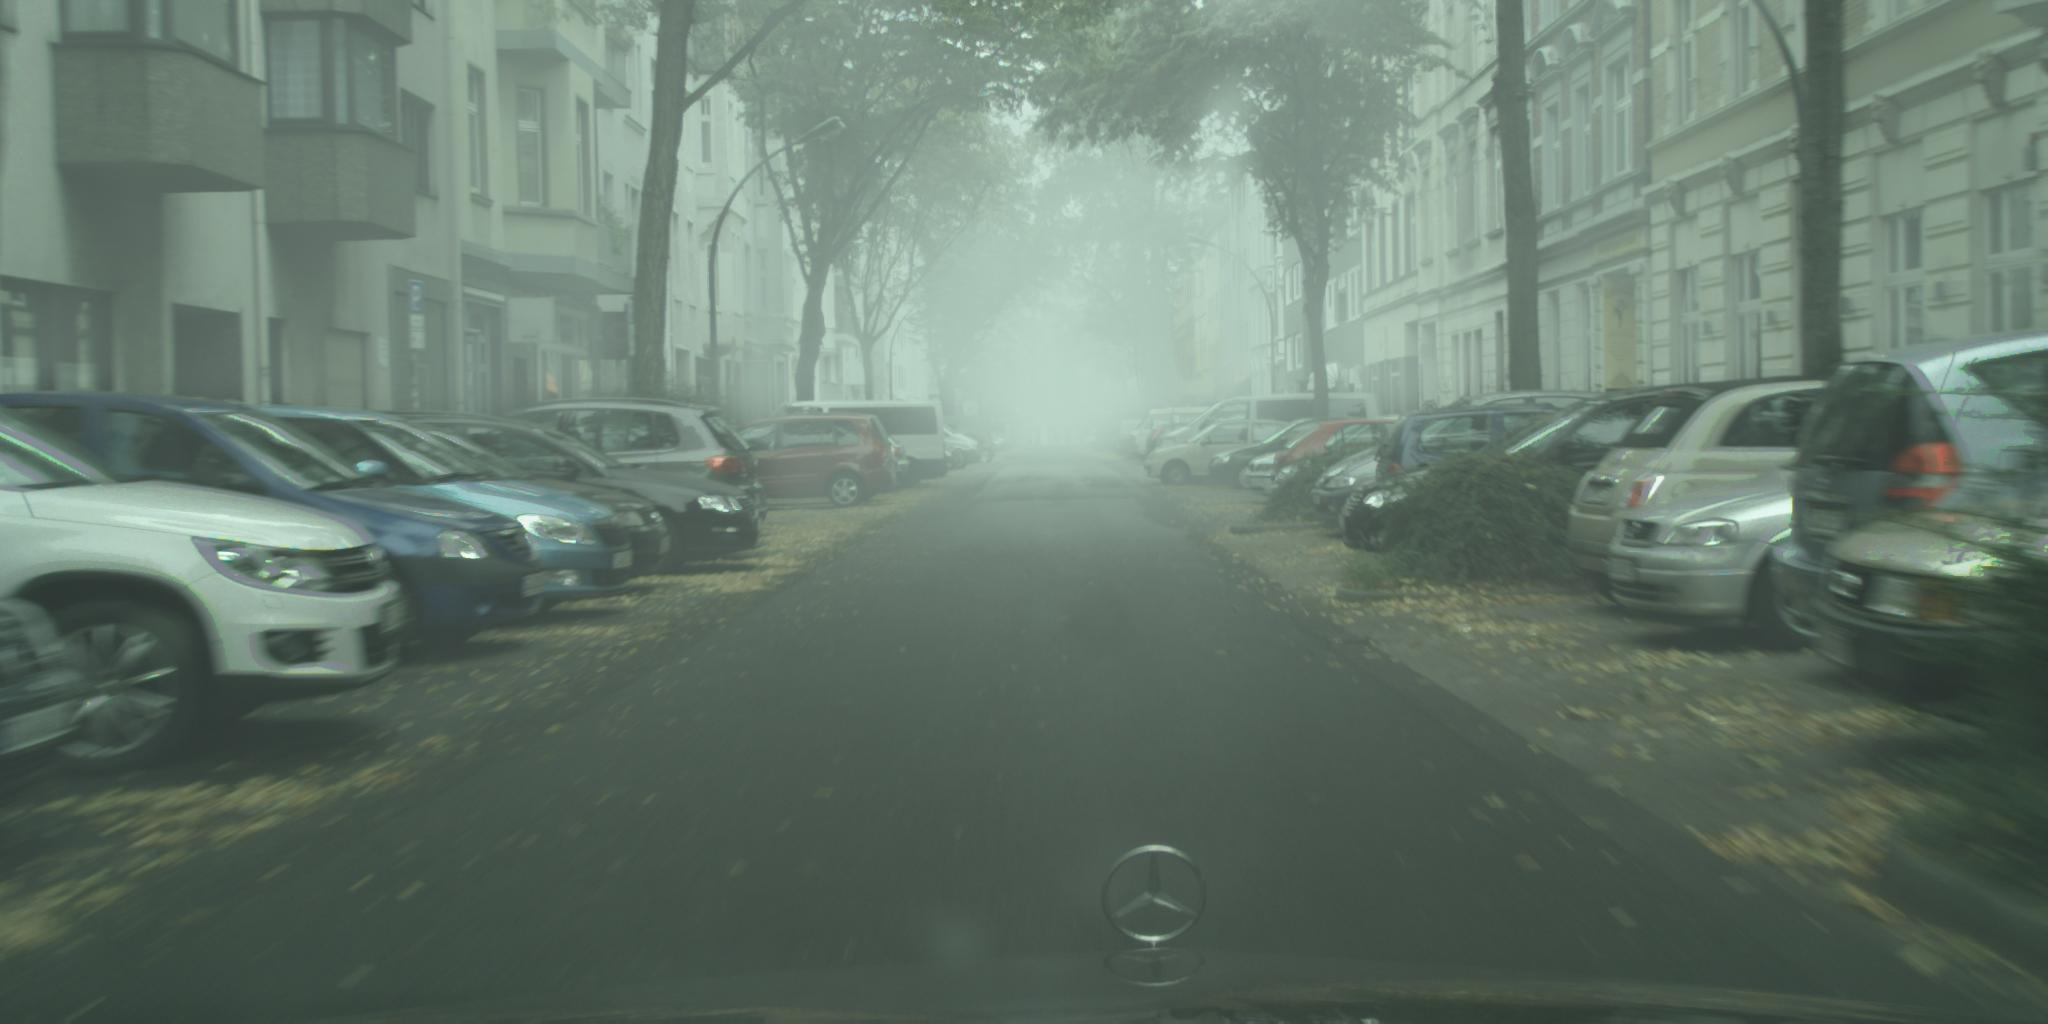car: (1, 402, 404, 772), (1, 391, 550, 658), (1770, 327, 2048, 648), (230, 408, 635, 626), (355, 411, 764, 577), (1565, 375, 1851, 609), (1810, 431, 2048, 699), (1337, 385, 1695, 555), (1607, 466, 1863, 652), (404, 422, 674, 579), (1309, 391, 1608, 522), (485, 396, 771, 526), (730, 414, 899, 509), (765, 401, 948, 488), (1375, 404, 1569, 486), (1155, 394, 1386, 455), (1144, 419, 1301, 487), (1272, 415, 1424, 485), (1209, 417, 1349, 491), (1130, 405, 1226, 458), (1246, 447, 1311, 499), (871, 428, 910, 488), (1145, 422, 1198, 462), (1096, 415, 1134, 455), (1117, 419, 1148, 455), (1081, 427, 1108, 452), (1105, 436, 1126, 452)
